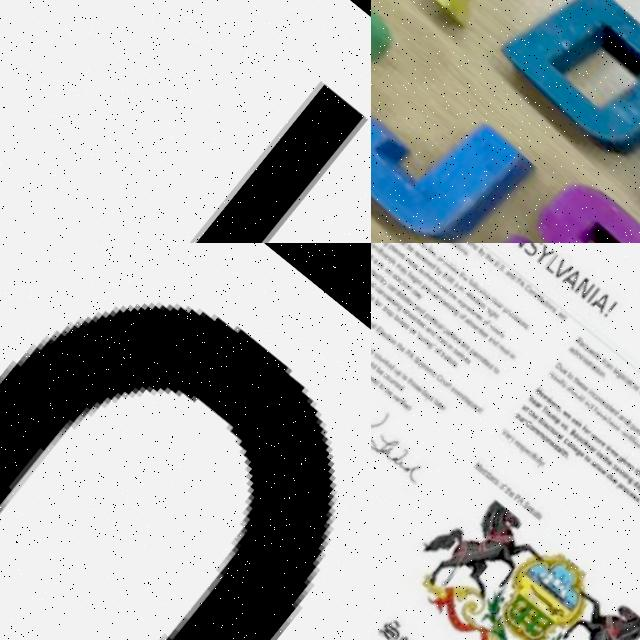0: (444, 274, 454, 283), (448, 277, 456, 285), (371, 253, 376, 261)
8: (440, 270, 450, 280)
A: (589, 288, 615, 316), (560, 266, 584, 292), (586, 444, 596, 454), (516, 496, 526, 506), (554, 445, 564, 454), (518, 280, 526, 290), (504, 269, 512, 277), (568, 346, 576, 354), (495, 302, 503, 310), (595, 409, 603, 417), (485, 336, 493, 344), (570, 416, 578, 424), (412, 291, 420, 299), (444, 329, 452, 337), (412, 304, 420, 312), (532, 401, 540, 409), (388, 284, 396, 292), (454, 350, 462, 358), (400, 307, 408, 315), (424, 326, 432, 334), (441, 353, 449, 361), (408, 352, 416, 360), (427, 248, 435, 255), (458, 341, 466, 348), (618, 414, 624, 422), (392, 246, 398, 254), (634, 483, 640, 491), (439, 338, 445, 346), (385, 294, 391, 302), (624, 377, 630, 384), (590, 364, 596, 371), (439, 284, 445, 291), (502, 348, 508, 355), (433, 293, 439, 300), (400, 267, 406, 274), (437, 323, 443, 330), (402, 295, 408, 302), (590, 460, 596, 467), (376, 288, 382, 295), (556, 433, 562, 440), (434, 400, 440, 407), (532, 510, 538, 517), (466, 306, 472, 312), (441, 300, 447, 306), (372, 258, 378, 264), (418, 267, 423, 274), (384, 253, 389, 260), (464, 318, 469, 324), (424, 392, 429, 398), (371, 323, 375, 330), (638, 499, 640, 507)
B: (374, 364, 384, 374), (376, 247, 386, 256), (546, 397, 556, 406), (451, 346, 460, 356), (438, 350, 447, 360), (383, 386, 392, 396), (484, 471, 494, 480), (568, 428, 577, 437), (392, 313, 401, 322), (606, 417, 614, 426), (406, 271, 414, 280), (434, 266, 442, 274), (404, 309, 412, 317), (466, 318, 473, 326), (379, 276, 386, 284), (406, 244, 412, 251), (478, 248, 483, 255)
C: (371, 0, 419, 136), (524, 420, 534, 430), (435, 373, 444, 382), (522, 284, 532, 292), (562, 436, 570, 446), (488, 296, 496, 304), (619, 428, 627, 436), (610, 464, 618, 472), (624, 488, 632, 496), (372, 284, 380, 292), (526, 451, 534, 458), (372, 352, 380, 359), (382, 372, 389, 380), (382, 332, 389, 339), (386, 282, 392, 290), (592, 393, 598, 400), (472, 296, 478, 303), (417, 253, 423, 260), (398, 278, 404, 285), (579, 438, 585, 445), (434, 321, 440, 328), (546, 425, 552, 432), (416, 333, 422, 340), (436, 282, 442, 288), (431, 291, 436, 298), (451, 243, 457, 247), (396, 249, 400, 255), (371, 267, 373, 274)
D: (486, 0, 640, 191), (570, 346, 580, 356), (379, 303, 389, 313), (474, 405, 484, 415), (372, 376, 382, 386), (404, 402, 414, 412), (410, 286, 419, 296), (488, 362, 497, 372), (398, 384, 407, 394), (491, 339, 500, 348), (398, 291, 407, 300), (604, 472, 613, 481), (419, 388, 428, 397), (509, 274, 518, 282), (578, 394, 586, 403), (371, 362, 379, 371), (447, 264, 455, 272), (554, 362, 562, 370), (430, 262, 438, 270), (632, 480, 640, 488), (418, 308, 426, 316), (374, 272, 382, 280), (388, 363, 396, 371), (624, 418, 631, 426), (395, 289, 402, 297), (431, 330, 438, 338), (635, 440, 640, 450), (388, 256, 394, 264), (371, 347, 375, 355)
E: (393, 633, 410, 640), (374, 326, 384, 334), (488, 257, 496, 265), (612, 368, 620, 376), (587, 348, 595, 356), (492, 300, 500, 308), (582, 385, 590, 393), (608, 406, 616, 414), (560, 368, 568, 376), (468, 294, 476, 302), (464, 291, 472, 299), (425, 260, 433, 268), (608, 420, 616, 428), (601, 414, 609, 422), (612, 422, 620, 430), (474, 312, 482, 320), (426, 274, 434, 282), (442, 287, 450, 295), (481, 332, 489, 340), (424, 286, 432, 294), (408, 273, 416, 281), (566, 413, 574, 421), (624, 461, 632, 469), (394, 276, 402, 284), (530, 398, 538, 406), (464, 345, 472, 353), (606, 460, 614, 468), (405, 298, 413, 306), (537, 416, 545, 424), (419, 322, 427, 330), (572, 446, 580, 454), (578, 451, 586, 459), (532, 414, 540, 422), (611, 478, 619, 486), (552, 443, 560, 451), (472, 404, 480, 412), (399, 346, 407, 354), (430, 371, 438, 379), (423, 366, 431, 374), (504, 432, 512, 440), (523, 448, 531, 456), (438, 402, 446, 410), (415, 385, 423, 393), (394, 384, 402, 392), (376, 369, 384, 377), (401, 402, 409, 410), (386, 390, 394, 398), (536, 514, 544, 522), (488, 474, 496, 482), (524, 504, 532, 512), (478, 466, 486, 474), (508, 491, 516, 499), (578, 341, 586, 348), (462, 275, 469, 283), (576, 381, 584, 388), (633, 427, 640, 435), (407, 246, 415, 253), (452, 294, 459, 302), (612, 452, 620, 459), (538, 391, 546, 398), (550, 401, 558, 408), (391, 273, 398, 281), (541, 422, 549, 429), (628, 492, 636, 499), (514, 441, 522, 448), (412, 383, 419, 391), (451, 266, 457, 274), (550, 372, 556, 380), (480, 330, 486, 338), (472, 324, 478, 332), (471, 350, 477, 358), (417, 320, 423, 328), (386, 362, 392, 370), (371, 376, 377, 384), (622, 431, 628, 438), (633, 439, 639, 446), (496, 328, 502, 335), (398, 251, 404, 258), (486, 361, 492, 368), (410, 315, 416, 322), (401, 321, 407, 328), (456, 391, 462, 398), (380, 331, 386, 338), (558, 314, 564, 320), (415, 252, 421, 258), (600, 442, 606, 448), (452, 336, 458, 342), (372, 272, 378, 278), (421, 256, 426, 263), (394, 396, 399, 402), (371, 295, 375, 302), (448, 243, 456, 246), (371, 374, 374, 382), (638, 472, 640, 480)
F: (530, 452, 538, 460), (500, 483, 508, 491), (467, 277, 474, 285), (485, 320, 492, 328), (460, 314, 467, 322), (580, 424, 587, 432), (436, 348, 443, 356), (373, 298, 380, 306), (399, 398, 406, 406), (599, 357, 606, 364), (630, 436, 636, 444), (371, 281, 376, 289), (524, 407, 530, 412), (638, 387, 640, 395)
G: (614, 370, 624, 380), (626, 477, 635, 486), (452, 310, 461, 318), (616, 455, 624, 464), (574, 448, 582, 457), (396, 304, 404, 313), (458, 301, 466, 309), (410, 276, 418, 284), (426, 343, 434, 351), (382, 243, 391, 249), (488, 310, 494, 318), (484, 294, 490, 300)
H: (527, 394, 536, 404), (459, 271, 468, 280), (562, 450, 570, 460), (567, 386, 576, 394), (506, 488, 514, 497), (592, 406, 600, 414), (424, 272, 432, 280), (528, 411, 536, 419), (449, 290, 456, 298), (469, 243, 477, 249), (634, 468, 640, 476), (604, 456, 610, 464), (408, 378, 414, 386), (486, 255, 492, 262), (574, 378, 580, 385), (492, 312, 498, 319), (397, 343, 402, 350)
I: (585, 286, 601, 306), (458, 298, 466, 306), (450, 332, 458, 340), (398, 398, 406, 406), (544, 300, 551, 308), (578, 353, 586, 360), (583, 356, 590, 364), (595, 366, 602, 374), (606, 445, 613, 453), (620, 456, 627, 464), (479, 356, 486, 364), (455, 243, 462, 250), (423, 256, 429, 264), (628, 434, 634, 442), (450, 304, 456, 312), (442, 338, 448, 346), (392, 300, 398, 308), (423, 338, 429, 346), (622, 471, 628, 478), (446, 342, 452, 349), (401, 400, 406, 408), (516, 317, 522, 323), (512, 314, 518, 320), (504, 349, 510, 355), (415, 278, 421, 284), (402, 282, 408, 288), (430, 318, 436, 324), (537, 295, 542, 301), (481, 288, 486, 294), (448, 262, 453, 268), (603, 402, 608, 408), (435, 280, 440, 286), (509, 352, 514, 358), (387, 336, 392, 342), (620, 373, 625, 379), (488, 308, 492, 314), (588, 389, 592, 395), (476, 299, 480, 305), (596, 450, 600, 456), (398, 292, 402, 298), (434, 321, 438, 326), (371, 243, 374, 247)
J: (0, 0, 371, 243), (371, 38, 542, 243)
K: (576, 420, 584, 430), (582, 439, 588, 446)
L: (543, 252, 566, 276), (576, 394, 584, 401), (389, 244, 396, 252), (592, 462, 599, 470), (371, 322, 378, 330), (432, 397, 440, 404), (472, 282, 479, 289), (425, 245, 432, 252), (540, 419, 547, 426), (558, 448, 565, 455), (459, 352, 465, 360), (536, 458, 544, 464), (623, 376, 630, 382), (492, 297, 498, 304), (472, 281, 478, 288), (440, 324, 446, 331), (594, 464, 600, 471), (378, 328, 384, 335), (536, 457, 542, 464), (394, 274, 400, 280), (444, 356, 450, 362), (612, 367, 617, 373), (559, 379, 564, 385), (429, 317, 434, 323), (458, 352, 463, 358), (571, 444, 576, 450), (559, 434, 564, 440), (446, 358, 452, 363), (371, 360, 375, 367), (467, 293, 472, 298), (444, 341, 449, 346), (569, 444, 574, 449), (506, 351, 510, 357)
M: (534, 386, 544, 396), (473, 462, 482, 471), (606, 363, 614, 371), (574, 351, 582, 359), (457, 284, 465, 292), (405, 257, 413, 265), (496, 344, 504, 352), (394, 263, 402, 271), (542, 394, 550, 402), (608, 448, 616, 456), (590, 432, 598, 440), (377, 261, 385, 269), (618, 470, 626, 478), (549, 414, 557, 422), (434, 335, 442, 343), (536, 431, 544, 439), (532, 428, 540, 436), (426, 368, 434, 376), (482, 468, 490, 476), (476, 355, 483, 362)
N: (572, 277, 596, 301), (510, 243, 533, 249), (546, 304, 554, 312), (460, 247, 468, 255), (519, 321, 527, 329), (620, 416, 628, 424), (596, 397, 604, 405), (610, 408, 618, 416), (583, 399, 591, 407), (614, 424, 622, 432), (462, 303, 470, 311), (488, 338, 496, 346), (434, 294, 442, 302), (628, 464, 636, 472), (406, 284, 414, 292), (386, 269, 394, 277), (623, 474, 631, 482), (415, 306, 423, 314), (391, 286, 399, 294), (426, 328, 434, 336), (412, 317, 420, 325), (544, 436, 552, 444), (424, 340, 432, 348), (528, 506, 536, 514), (507, 272, 514, 280), (598, 371, 606, 378), (588, 391, 596, 398), (595, 452, 603, 459), (480, 302, 486, 310), (451, 306, 457, 314), (372, 244, 378, 252), (382, 358, 388, 366), (530, 290, 536, 297), (484, 306, 490, 313), (475, 327, 481, 334), (394, 302, 400, 309), (392, 340, 398, 347), (391, 379, 397, 386), (580, 356, 586, 362), (510, 355, 516, 361), (416, 280, 422, 286), (448, 344, 453, 351), (482, 292, 487, 298), (431, 278, 436, 284), (380, 291, 385, 297), (417, 243, 423, 245)
O: (0, 301, 334, 640), (526, 288, 534, 296), (457, 244, 465, 252), (594, 395, 602, 403), (566, 373, 574, 381), (476, 300, 484, 308), (490, 324, 498, 332), (481, 318, 489, 326), (457, 312, 465, 320), (582, 427, 590, 435), (403, 282, 411, 290), (383, 267, 391, 275), (576, 436, 584, 444), (572, 432, 580, 440), (614, 466, 622, 474), (621, 486, 629, 494), (520, 404, 528, 412), (595, 465, 603, 473), (564, 441, 572, 449), (549, 428, 557, 436), (584, 457, 592, 465), (433, 346, 441, 354), (514, 412, 522, 420), (540, 434, 548, 442), (407, 326, 415, 334), (528, 424, 536, 432), (395, 316, 403, 324), (438, 378, 446, 386), (448, 386, 456, 394), (387, 336, 395, 344), (401, 375, 409, 383), (378, 383, 386, 391), (472, 244, 479, 252), (628, 381, 636, 388), (468, 281, 476, 288), (421, 243, 428, 251), (586, 402, 594, 409), (594, 437, 602, 444), (546, 302, 552, 310), (602, 360, 608, 368), (596, 368, 602, 376), (448, 358, 454, 366), (386, 308, 392, 316), (376, 354, 382, 362), (516, 319, 522, 326), (572, 390, 578, 397), (494, 368, 500, 375), (375, 300, 381, 307), (464, 398, 470, 405), (384, 375, 390, 382), (498, 482, 504, 489), (507, 310, 512, 318), (474, 284, 479, 292), (381, 250, 386, 258), (427, 314, 432, 322), (461, 354, 466, 362), (371, 243, 376, 249), (442, 258, 446, 264), (371, 281, 373, 288)
P: (466, 348, 476, 357), (440, 327, 450, 336), (468, 402, 477, 412), (435, 255, 444, 264), (422, 312, 431, 321), (519, 445, 528, 454), (513, 493, 522, 502), (514, 277, 522, 286), (451, 282, 460, 290), (387, 311, 395, 320), (553, 418, 561, 426), (616, 482, 624, 490), (403, 348, 411, 356), (501, 307, 508, 315), (418, 362, 425, 370), (465, 401, 472, 408), (396, 371, 402, 378), (420, 284, 426, 290), (388, 243, 393, 250)
Q: (580, 343, 588, 352), (628, 422, 636, 430)
R: (574, 336, 583, 346), (381, 292, 389, 300), (590, 448, 598, 455), (440, 257, 446, 264), (412, 250, 418, 257), (498, 330, 504, 337), (473, 311, 479, 318), (423, 285, 429, 292), (386, 255, 392, 262), (553, 403, 559, 410), (586, 429, 592, 436), (462, 343, 468, 350), (537, 404, 543, 411), (474, 352, 480, 359), (444, 382, 451, 388), (421, 363, 427, 370), (512, 439, 518, 446), (441, 405, 447, 412), (492, 477, 498, 484), (411, 328, 416, 336), (458, 392, 463, 400), (548, 371, 554, 377), (598, 440, 604, 446), (554, 432, 560, 438), (520, 418, 526, 424), (378, 302, 383, 309), (411, 381, 416, 388), (633, 384, 638, 390), (505, 310, 510, 316), (499, 304, 504, 310), (625, 433, 630, 439), (448, 332, 453, 338), (544, 410, 549, 416), (620, 485, 625, 491), (397, 398, 402, 404), (589, 363, 594, 368), (384, 307, 388, 313), (508, 435, 512, 441), (602, 359, 606, 364), (422, 338, 426, 343), (371, 321, 373, 328)
S: (466, 159, 640, 243), (375, 615, 406, 640), (521, 243, 544, 258), (497, 264, 506, 273), (412, 356, 421, 365), (522, 500, 530, 510), (532, 292, 540, 300), (584, 358, 592, 366), (523, 323, 531, 331), (454, 268, 462, 276), (603, 402, 611, 410), (578, 383, 586, 391), (564, 384, 572, 392), (477, 314, 485, 322), (554, 404, 562, 412), (454, 338, 462, 346), (631, 494, 639, 502), (387, 297, 395, 305), (428, 395, 436, 403), (633, 496, 640, 505), (633, 385, 640, 393), (390, 298, 397, 306), (595, 354, 601, 362), (621, 374, 627, 382), (470, 322, 476, 330), (562, 424, 568, 432), (407, 312, 413, 320), (460, 394, 466, 402), (494, 478, 500, 486), (557, 311, 563, 318), (550, 307, 556, 314), (600, 400, 606, 407), (552, 374, 558, 381), (500, 333, 506, 340), (456, 298, 462, 305), (412, 262, 418, 269), (444, 302, 450, 309), (391, 260, 397, 267), (574, 419, 580, 426), (409, 301, 415, 308), (464, 358, 470, 365), (452, 362, 458, 369), (404, 324, 410, 331), (518, 444, 524, 451), (512, 316, 518, 322), (562, 382, 568, 388), (464, 250, 469, 257), (401, 253, 406, 260), (447, 304, 452, 311), (636, 429, 640, 437), (592, 352, 597, 358), (399, 243, 405, 246)
T: (540, 406, 548, 414), (561, 314, 568, 322), (586, 359, 594, 366), (593, 364, 600, 372), (457, 270, 464, 278), (626, 434, 634, 441), (589, 404, 596, 412), (493, 326, 500, 334), (441, 284, 448, 292), (404, 296, 411, 304), (582, 454, 589, 462), (384, 360, 391, 368), (534, 511, 542, 518), (614, 411, 621, 418), (559, 449, 566, 456), (377, 382, 384, 389), (483, 252, 489, 260), (606, 404, 612, 412), (469, 306, 475, 314), (423, 270, 429, 278), (414, 264, 420, 272), (601, 454, 607, 462), (446, 382, 452, 390), (542, 299, 548, 306), (627, 379, 633, 386), (494, 314, 500, 321), (447, 290, 453, 297), (604, 444, 610, 451), (492, 366, 498, 373), (450, 332, 456, 339), (463, 356, 469, 363), (416, 319, 422, 326), (526, 409, 532, 416), (450, 360, 456, 367), (395, 342, 401, 349), (530, 452, 536, 459), (503, 486, 510, 492), (478, 328, 483, 336), (538, 296, 544, 302), (594, 353, 600, 359), (454, 243, 460, 249), (566, 372, 572, 378), (572, 377, 578, 383), (474, 298, 480, 304), (634, 468, 640, 474), (482, 358, 488, 364), (432, 318, 438, 324), (548, 426, 554, 432), (462, 396, 468, 402), (420, 243, 427, 248), (371, 269, 376, 276), (407, 377, 412, 384), (536, 294, 541, 300), (402, 243, 408, 248), (560, 380, 565, 386), (434, 280, 439, 286), (386, 334, 391, 340), (437, 402, 442, 408), (484, 359, 488, 365), (402, 281, 406, 286), (401, 374, 406, 378), (394, 381, 398, 386)
U: (492, 260, 502, 269), (584, 346, 592, 354), (630, 424, 638, 432), (558, 366, 566, 374), (555, 376, 563, 384), (408, 260, 416, 268), (546, 411, 554, 419), (608, 476, 616, 484), (516, 414, 524, 422), (418, 335, 426, 343), (414, 360, 422, 368), (392, 368, 400, 376), (574, 392, 582, 399), (419, 268, 426, 276), (442, 380, 449, 388), (540, 298, 546, 305), (534, 456, 540, 463), (379, 357, 385, 364), (388, 378, 394, 384), (471, 310, 476, 316)
V: (548, 257, 574, 284), (500, 427, 510, 437), (598, 411, 606, 419), (584, 442, 592, 450), (558, 422, 566, 430), (509, 312, 515, 320), (623, 459, 629, 466), (392, 394, 398, 401), (439, 298, 445, 304), (424, 259, 429, 266), (445, 262, 450, 268), (489, 322, 494, 328), (453, 389, 458, 395)
W: (476, 287, 484, 295), (430, 250, 438, 258), (561, 410, 569, 418), (599, 468, 607, 476), (548, 441, 556, 448), (465, 243, 473, 246)
X: (399, 319, 405, 326)
Y: (532, 244, 556, 268), (424, 393, 434, 403), (478, 250, 487, 260), (436, 268, 444, 278), (416, 294, 424, 302), (401, 269, 408, 277), (381, 280, 388, 288), (537, 460, 544, 468), (510, 437, 516, 444), (637, 486, 640, 494)
